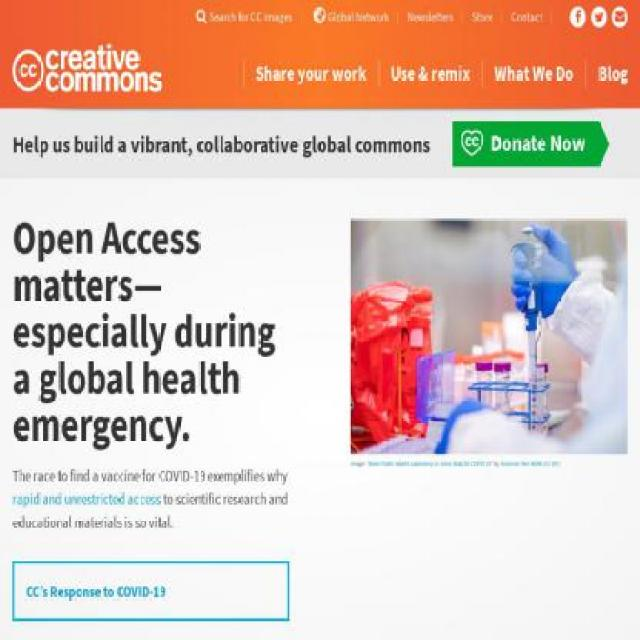button: (350, 218, 628, 456), (452, 120, 598, 168), (243, 59, 379, 90), (183, 0, 302, 32), (378, 59, 482, 90), (482, 59, 586, 90), (301, 0, 398, 32), (397, 0, 462, 32), (586, 59, 640, 90), (501, 0, 552, 32), (461, 0, 501, 32), (570, 6, 587, 28), (590, 6, 607, 28), (612, 6, 628, 28)
